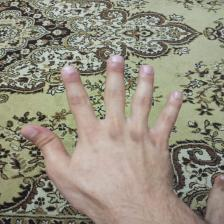five: (14, 50, 190, 211)
